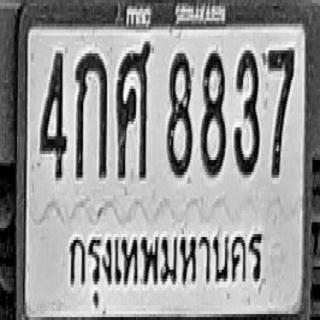A01: (74, 50, 107, 178)
A38: (117, 40, 150, 179)
N03: (234, 47, 259, 175)
N04: (40, 52, 66, 179)
N07: (266, 46, 294, 176)
N08: (200, 50, 226, 175), (167, 52, 192, 176)
P04: (64, 216, 266, 313)
